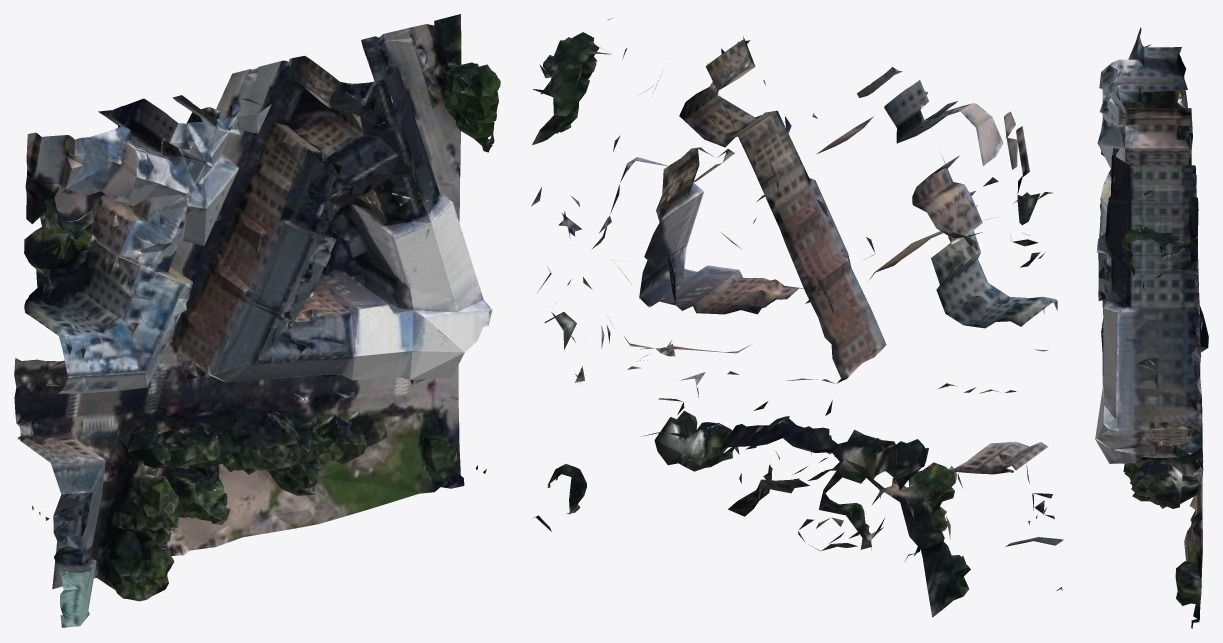
The model's file is Tile_+031_+023_L17_0000.glb.
The picture shows the model from 3 angles, left to right: view 1: azimuth 30°, elevation 25°; view 2: azimuth 150°, elevation 25°; view 3: azimuth 270°, elevation 25°; orthographic projection. The views are drawn at different scales.
Bounding box in the file's own units: 126 × 126 × 30.97.
Materials: 1 (1 with a texture image).
